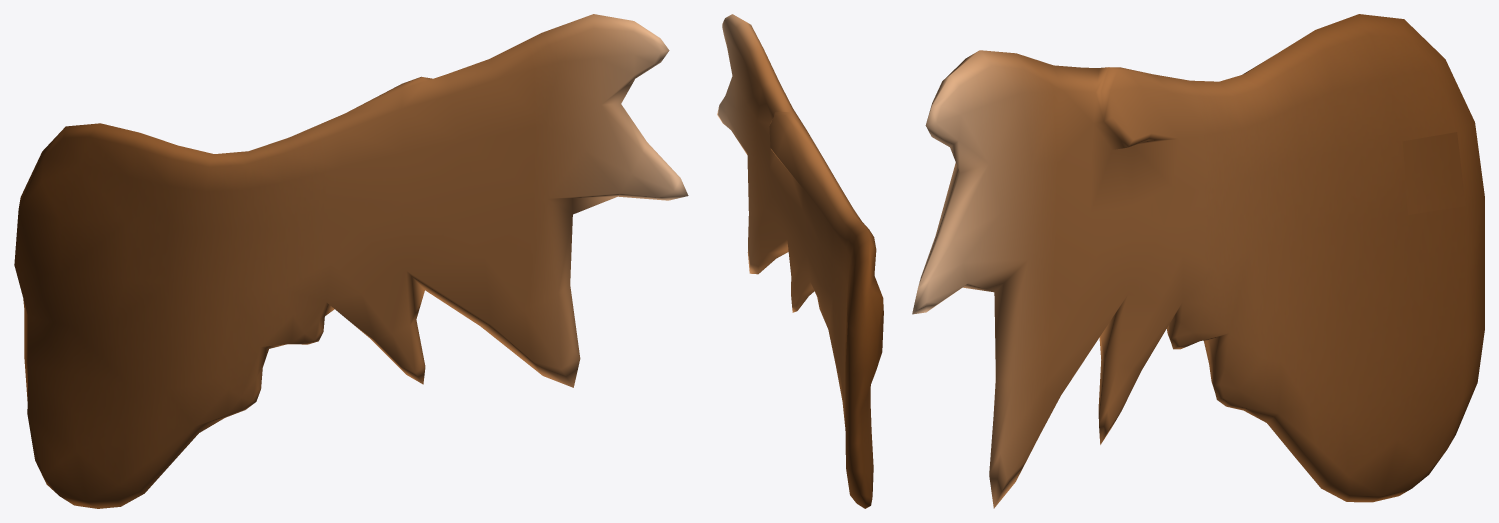
Rendered from Wings2.fbx.
The picture shows the model from 3 angles, left to right: view 1: azimuth 30°, elevation 25°; view 2: azimuth 150°, elevation 25°; view 3: azimuth 270°, elevation 25°; orthographic projection. The views are drawn at different scales.
Parts seen in each view (by area): view 1: wing1; view 2: wing1; view 3: wing1.
Part boxes in pixels (<box>): wing1: <box>14,14,688,508</box>; wing1: <box>717,14,883,508</box>; wing1: <box>912,14,1484,508</box>.
Size of the model in its own units: 3.56 by 3.94 by 3.1.
Materials: 1 (1 with a texture image).
